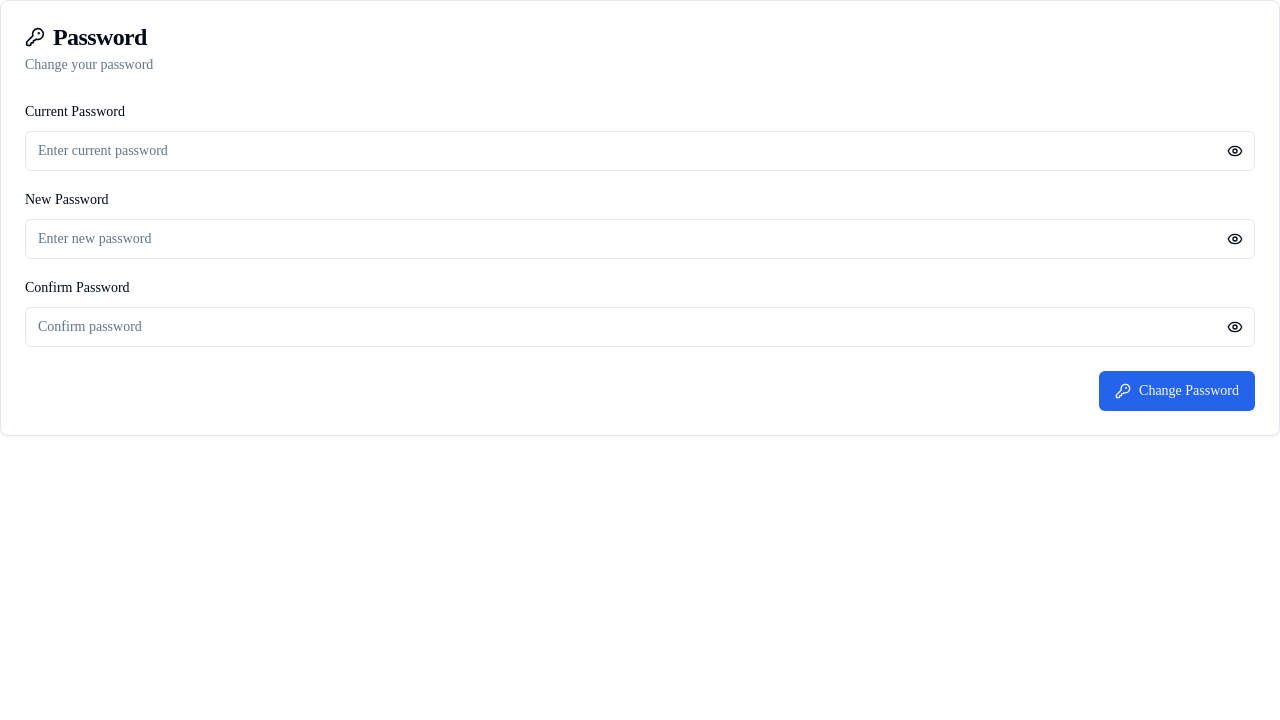
Scenario: PasswordChange › when user has password › should show requirements when typing new password
Type "test" into the password field labelled "New Password" at x=640, y=239, box [25,219,1255,259]
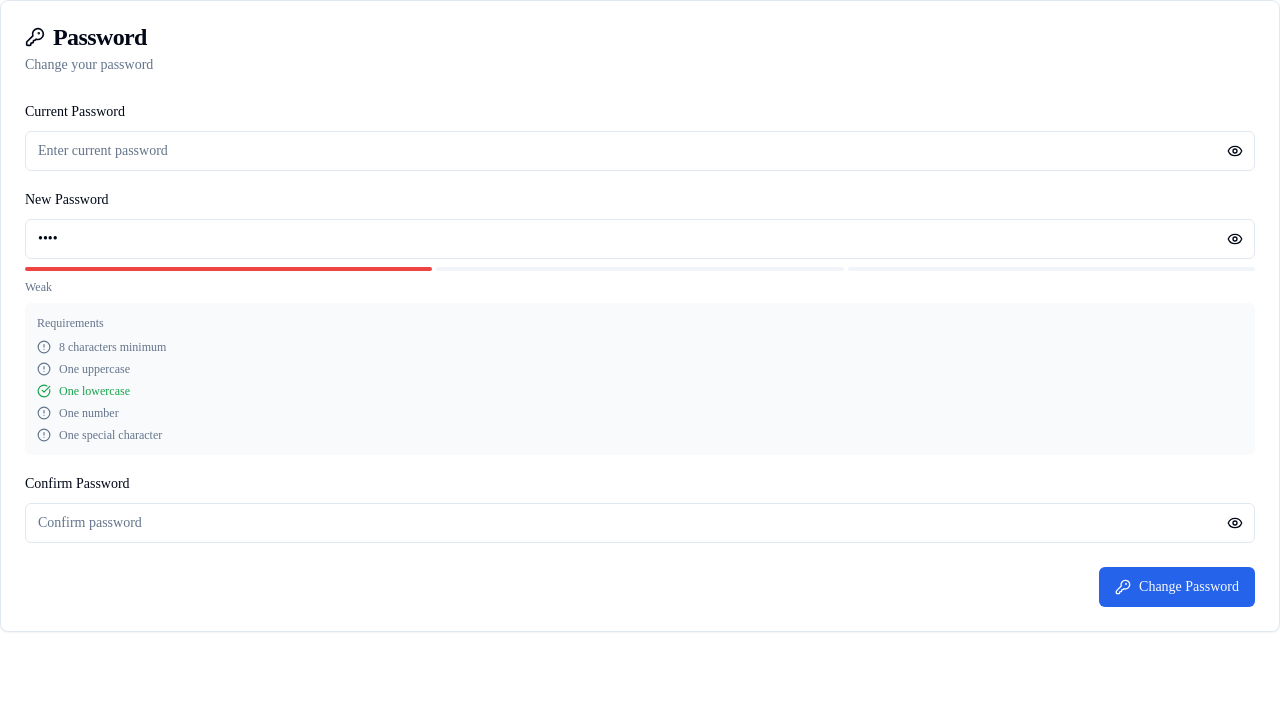
Expected: the text "Requirements" is shown, [37,316,104,330]
Expected: the text "8 characters minimum" is shown, [59,339,166,355]
Expected: the text "One uppercase" is shown, [59,361,130,377]
